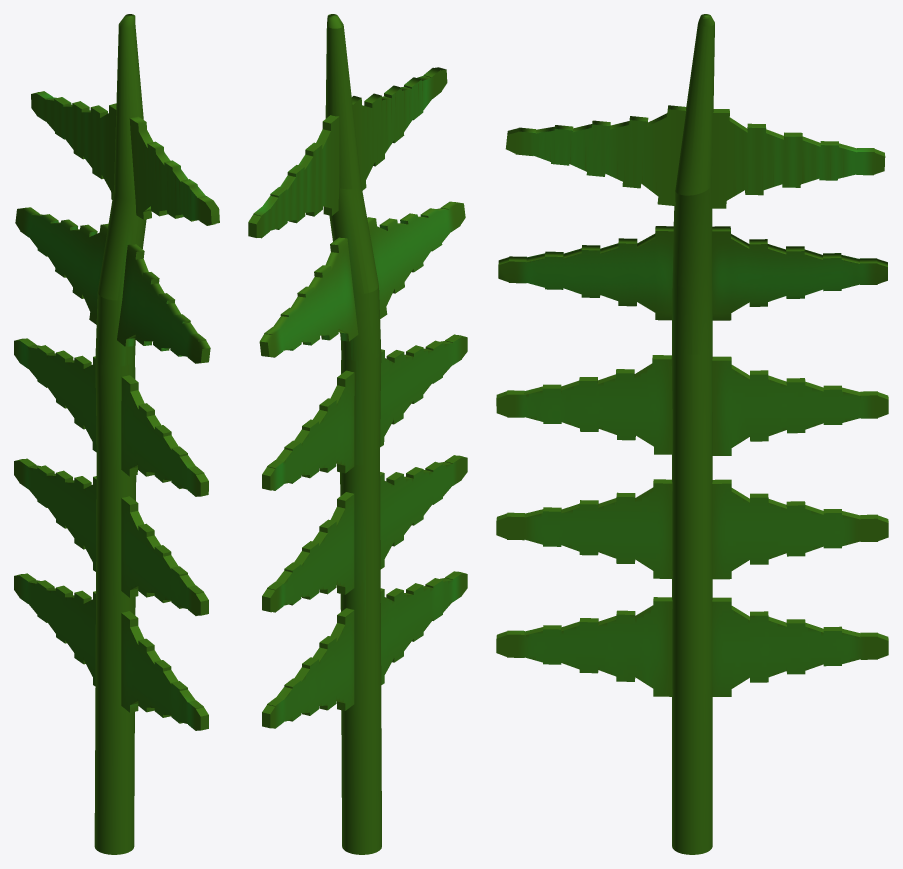
Rendered from helecho dorado.fbx.
The picture shows the model from 3 angles, left to right: view 1: azimuth 30°, elevation 25°; view 2: azimuth 150°, elevation 25°; view 3: azimuth 270°, elevation 25°; orthographic projection. The views are drawn at different scales.
Parts seen in each view (by area): view 1: Cylinder (2); view 2: Cylinder (2); view 3: Cylinder (2).
Boxes of the visible parts, x1,y1,x2,y2 form: Cylinder (2): (14, 14, 219, 854); Cylinder (2): (248, 14, 467, 854); Cylinder (2): (496, 14, 888, 854).
Bounding box in the file's own units: 7.15 × 110 × 46.53.
